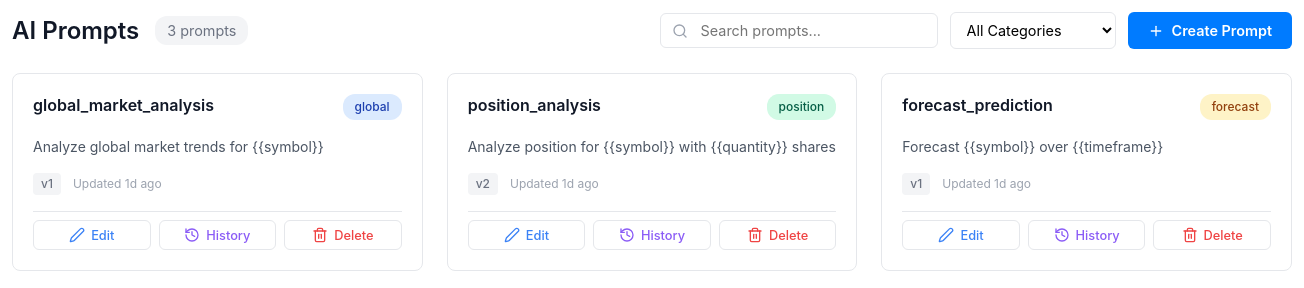
Test: PromptsList › Category Filter › should filter prompts by category
Select "Global Analysis" in the dropdown named "Category": (1032, 30) [950, 12, 1116, 49]
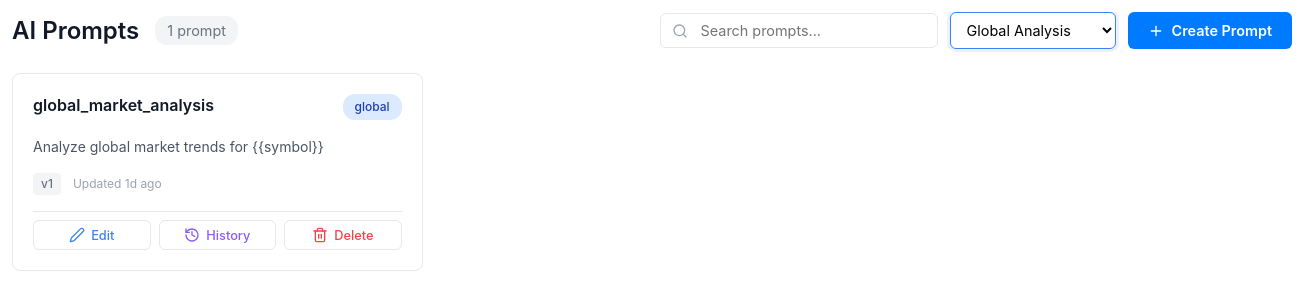
Check: the heading "global_market_analysis" is shown, box [33, 95, 214, 115]
Check: the heading "position_analysis" is gone
Check: the heading "forecast_prediction" is gone
